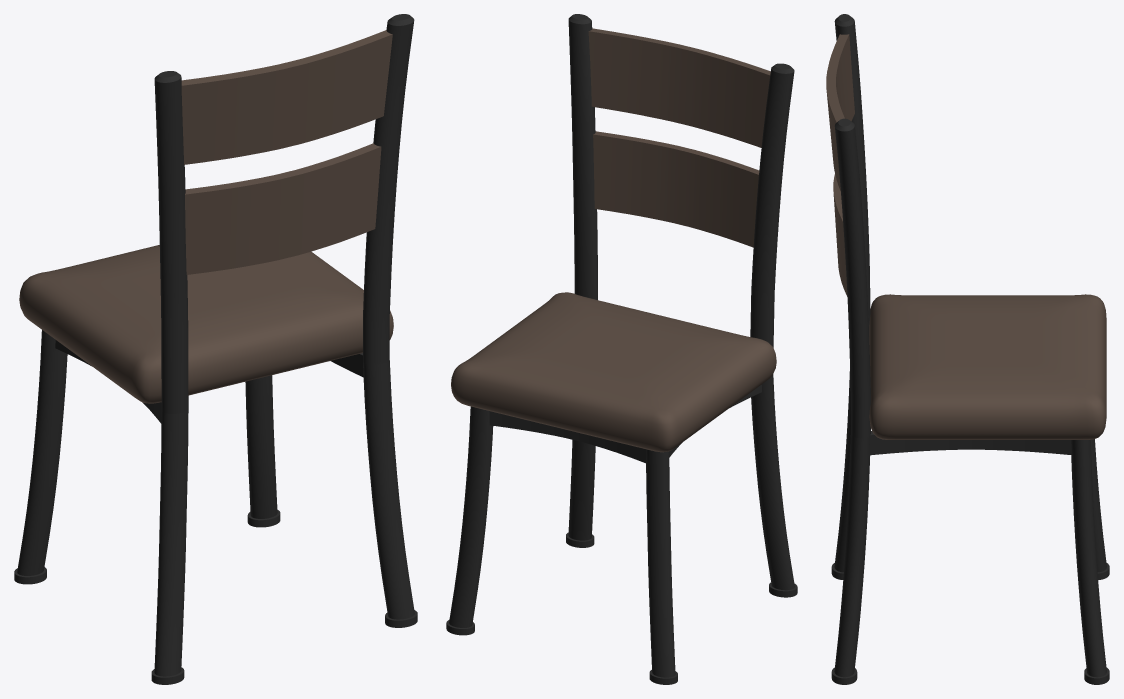
File: Chaise3_10.fbx
3 renders of one model, left to right at view 1: azimuth 30°, elevation 25°; view 2: azimuth 150°, elevation 25°; view 3: azimuth 270°, elevation 25°, orthographic. The views are drawn at different scales.
Parts seen in each view (by area): view 1: pCube2672, pCube2679, pCube2680, pCylinder1672, pCylinder1671, pCylinder1667, pCylinder1668, pCylinder1670, pCylinder1669; view 2: pCube2672, pCube2679, pCube2680, pCylinder1672, pCylinder1671, pCylinder1670, pCylinder1669, pCylinder1667, pCylinder1668, pCube2674; view 3: pCube2672, pCylinder1671, pCylinder1668, pCylinder1669, pCube2675, pCube2679, pCylinder1672, pCylinder1667, pCylinder1670, pCube2680.
Boxes of the visible parts, x1=… form: pCube2672: x1=19, y1=245, x2=393, y2=403; pCube2679: x1=181, y1=30, x2=392, y2=164; pCube2680: x1=185, y1=143, x2=381, y2=274; pCylinder1672: x1=154, y1=71, x2=188, y2=413; pCylinder1671: x1=363, y1=14, x2=414, y2=364; pCylinder1667: x1=151, y1=408, x2=188, y2=684; pCylinder1668: x1=363, y1=360, x2=417, y2=627; pCylinder1670: x1=14, y1=330, x2=67, y2=584; pCylinder1669: x1=245, y1=375, x2=280, y2=527; pCube2672: x1=451, y1=292, x2=776, y2=452; pCube2679: x1=588, y1=28, x2=770, y2=147; pCube2680: x1=593, y1=131, x2=759, y2=247; pCylinder1672: x1=750, y1=63, x2=794, y2=347; pCylinder1671: x1=568, y1=14, x2=597, y2=299; pCylinder1670: x1=646, y1=449, x2=677, y2=684; pCylinder1669: x1=446, y1=406, x2=493, y2=635; pCylinder1667: x1=751, y1=374, x2=797, y2=597; pCylinder1668: x1=566, y1=439, x2=595, y2=547; pCube2674: x1=489, y1=411, x2=645, y2=463; pCube2672: x1=869, y1=294, x2=1106, y2=439; pCylinder1671: x1=834, y1=118, x2=870, y2=438; pCylinder1668: x1=831, y1=434, x2=870, y2=684; pCylinder1669: x1=1071, y1=440, x2=1109, y2=684; pCube2675: x1=869, y1=431, x2=1071, y2=455; pCube2679: x1=826, y1=34, x2=854, y2=191; pCylinder1672: x1=834, y1=14, x2=870, y2=335; pCylinder1667: x1=831, y1=369, x2=850, y2=579; pCylinder1670: x1=1090, y1=439, x2=1109, y2=579; pCube2680: x1=833, y1=174, x2=847, y2=296.
Size of the model in its own units: 39.07 by 85.74 by 39.63.
